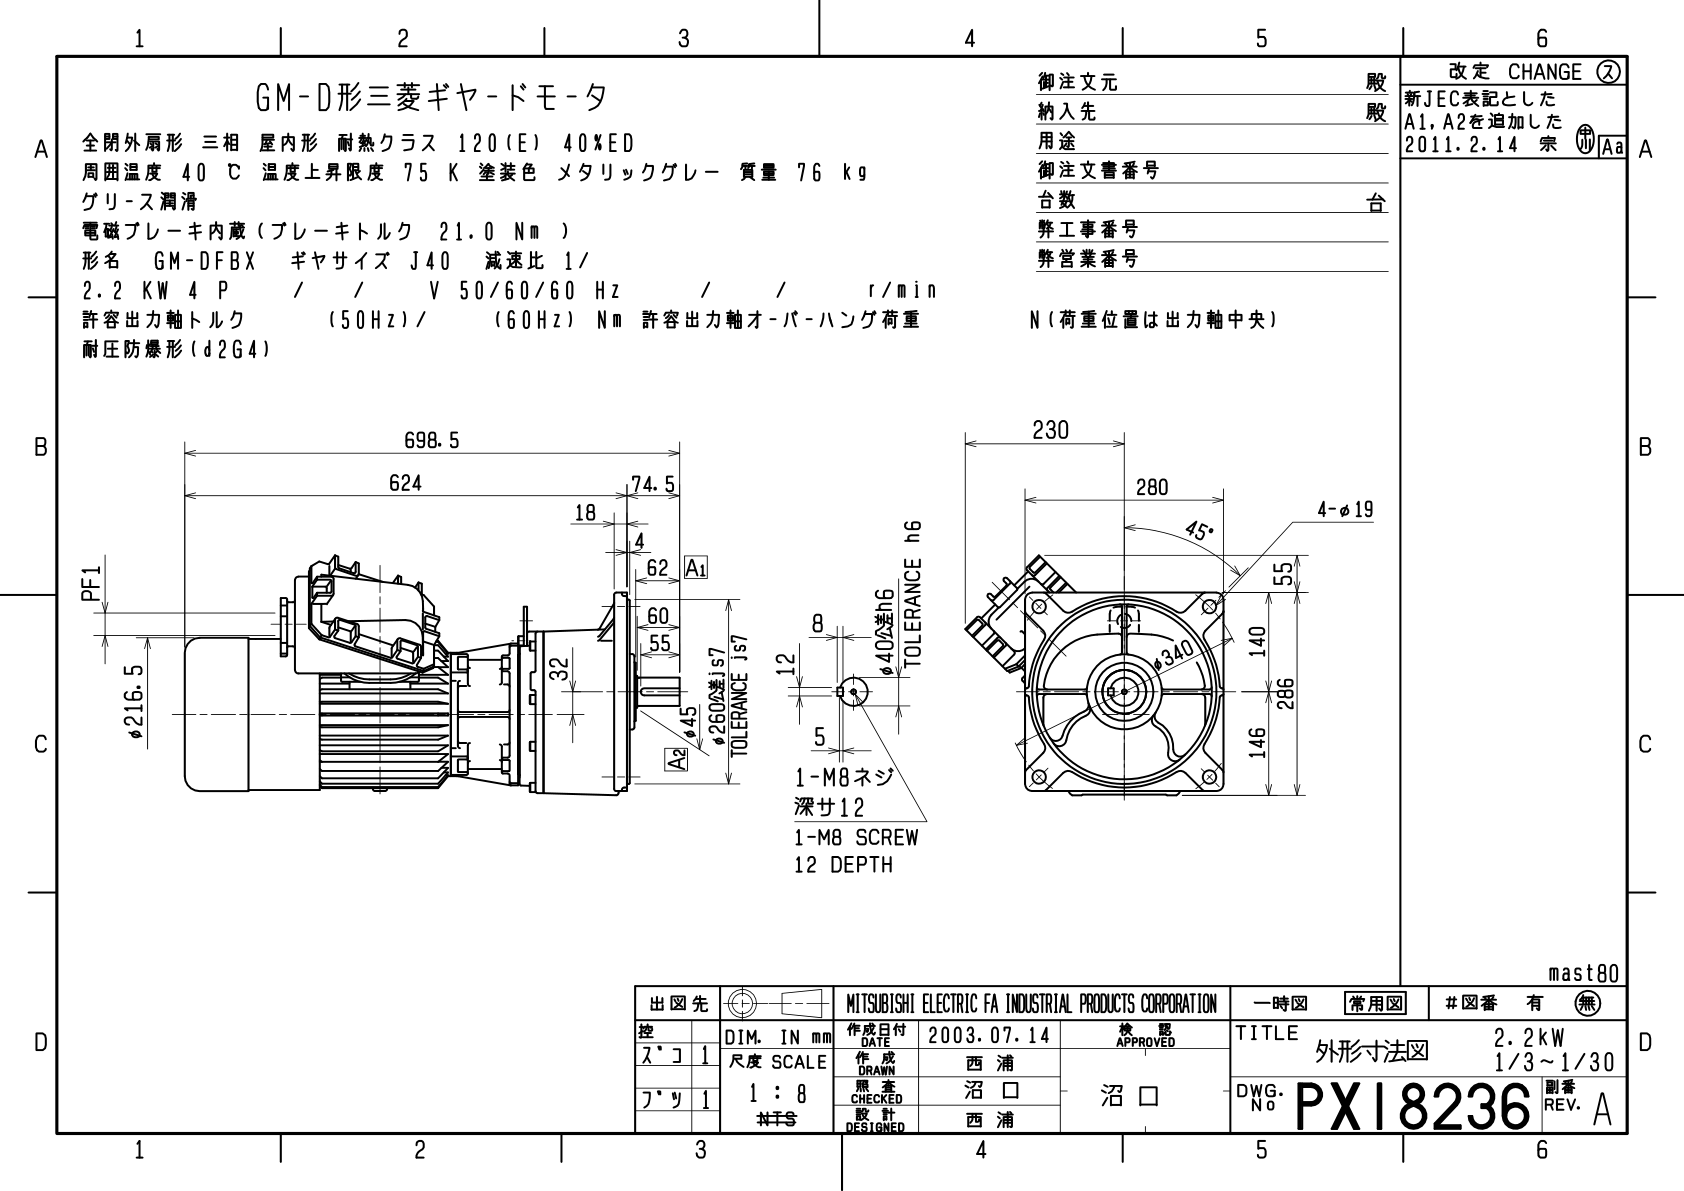GM_SP_屋内＿三相_フランジ: (67, 396, 1375, 907)
